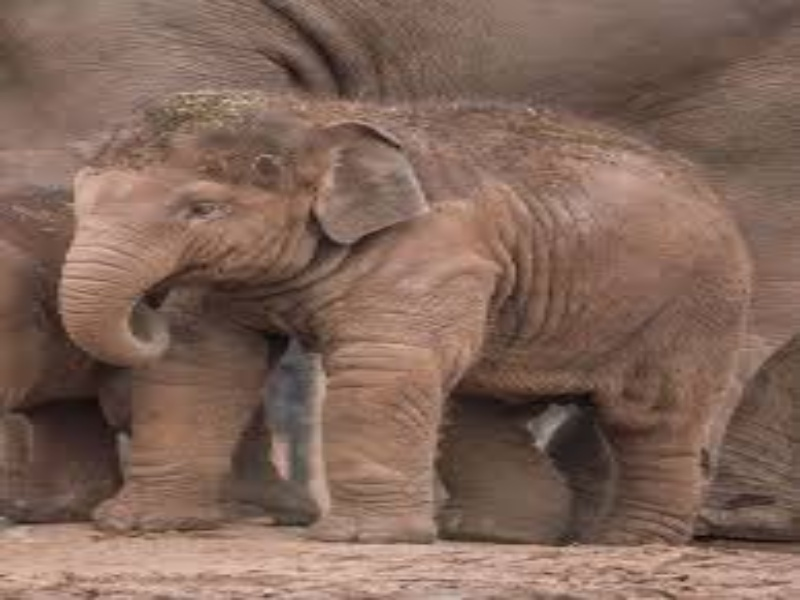elephant: (65, 83, 743, 565)
